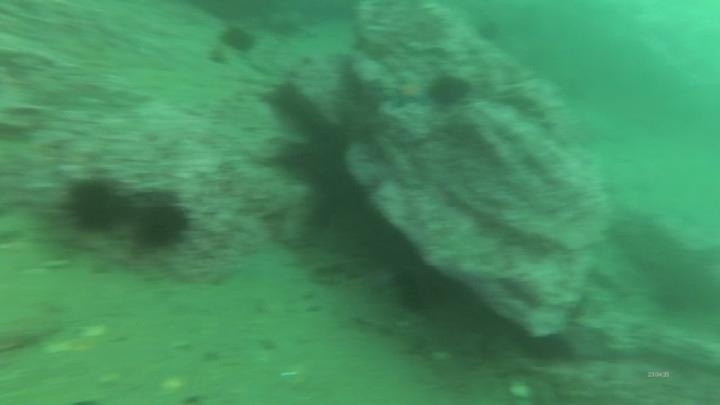echinus: (59, 174, 127, 239), (130, 199, 193, 255), (391, 264, 444, 316), (519, 329, 575, 367), (425, 71, 473, 111), (217, 23, 259, 57), (472, 16, 504, 46)
starfish: (386, 74, 433, 111)
